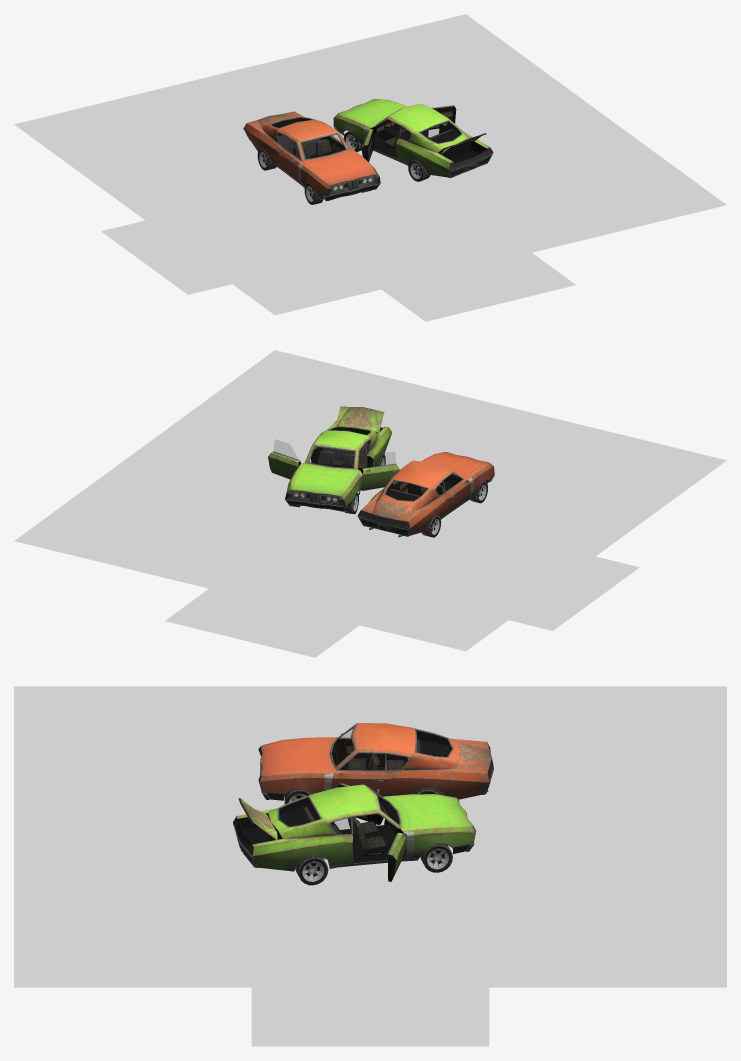
File: car.fbx
3 renders of one model, top to bottom at view 1: azimuth 30°, elevation 25°; view 2: azimuth 150°, elevation 25°; view 3: azimuth 270°, elevation 25°, orthographic. The views are drawn at different scales.
Parts seen in each view (by area): view 1: Plano.001, materials3, body.002, materials3.003, body, hood, hood.004, interiorCapsule.001, windShielf, trunk_Interior.001, rearWindow.001; view 2: Plano.001, materials3.002, materials3.003, body, body.002, hood.004, trunk_door.002, hood, trunk_door, door_Left.002, windShielf.001, door_Right.002 (+1 smaller); view 3: Plano.001, materials3.001, body.002, body, hood, hood.004, interiorCapsule.001, door_Left, trunk_door, interiorCapsule, rearWindow.001, rearWheel_Right.001 (+4 smaller).
Boxes of the visible parts, x1=… form: Plano.001: x1=14, y1=14, x2=726, y2=315; materials3: x1=381, y1=253, x2=575, y2=321; body.002: x1=333, y1=99, x2=493, y2=177; materials3.003: x1=101, y1=220, x2=231, y2=294; body: x1=243, y1=111, x2=380, y2=198; hood: x1=305, y1=151, x2=373, y2=184; hood.004: x1=339, y1=99, x2=404, y2=124; interiorCapsule.001: x1=370, y1=122, x2=460, y2=162; windShielf: x1=302, y1=135, x2=344, y2=158; trunk_Interior.001: x1=439, y1=140, x2=486, y2=162; rearWindow.001: x1=421, y1=122, x2=460, y2=142; Plano.001: x1=14, y1=350, x2=726, y2=651; materials3.002: x1=165, y1=589, x2=359, y2=657; materials3.003: x1=509, y1=556, x2=639, y2=630; body: x1=357, y1=452, x2=494, y2=535; body.002: x1=285, y1=420, x2=392, y2=507; hood.004: x1=292, y1=465, x2=355, y2=495; trunk_door.002: x1=335, y1=406, x2=384, y2=433; hood: x1=425, y1=452, x2=487, y2=476; trunk_door: x1=364, y1=500, x2=415, y2=522; door_Left.002: x1=361, y1=464, x2=399, y2=490; windShielf.001: x1=310, y1=447, x2=354, y2=467; door_Right.002: x1=268, y1=452, x2=299, y2=479; Plano.001: x1=14, y1=686, x2=726, y2=987; materials3.001: x1=251, y1=987, x2=489, y2=1046; body.002: x1=233, y1=784, x2=475, y2=871; body: x1=259, y1=723, x2=493, y2=800; hood: x1=260, y1=738, x2=328, y2=774; hood.004: x1=391, y1=795, x2=472, y2=827; interiorCapsule.001: x1=279, y1=794, x2=405, y2=863; door_Left: x1=332, y1=770, x2=387, y2=796; trunk_door: x1=456, y1=741, x2=492, y2=772; interiorCapsule: x1=340, y1=728, x2=451, y2=770; rearWindow.001: x1=279, y1=797, x2=319, y2=825; rearWheel_Right.001: x1=295, y1=856, x2=328, y2=885.
Size of what is drawn, in the model's own units: 1414 by 272 by 1414.
